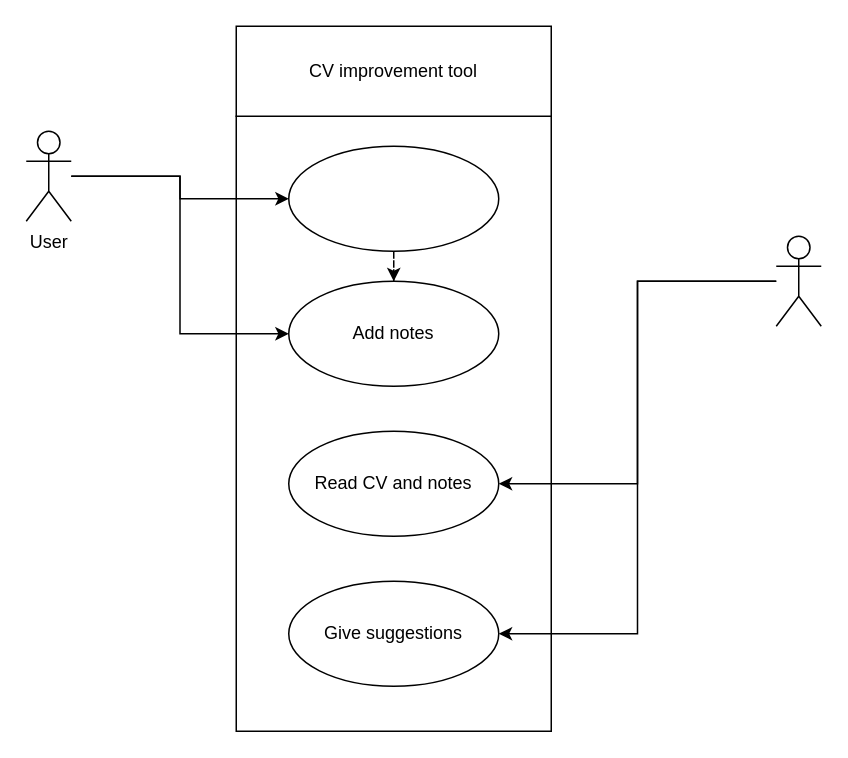
Some shapes in this 848 by 758 pixel diagram are drawn without their labels. Here are the shapes that lost their labels. From the top down, the centre of each, then its label:
the point at 393,198: Upload CV
the point at 798,280: AI
